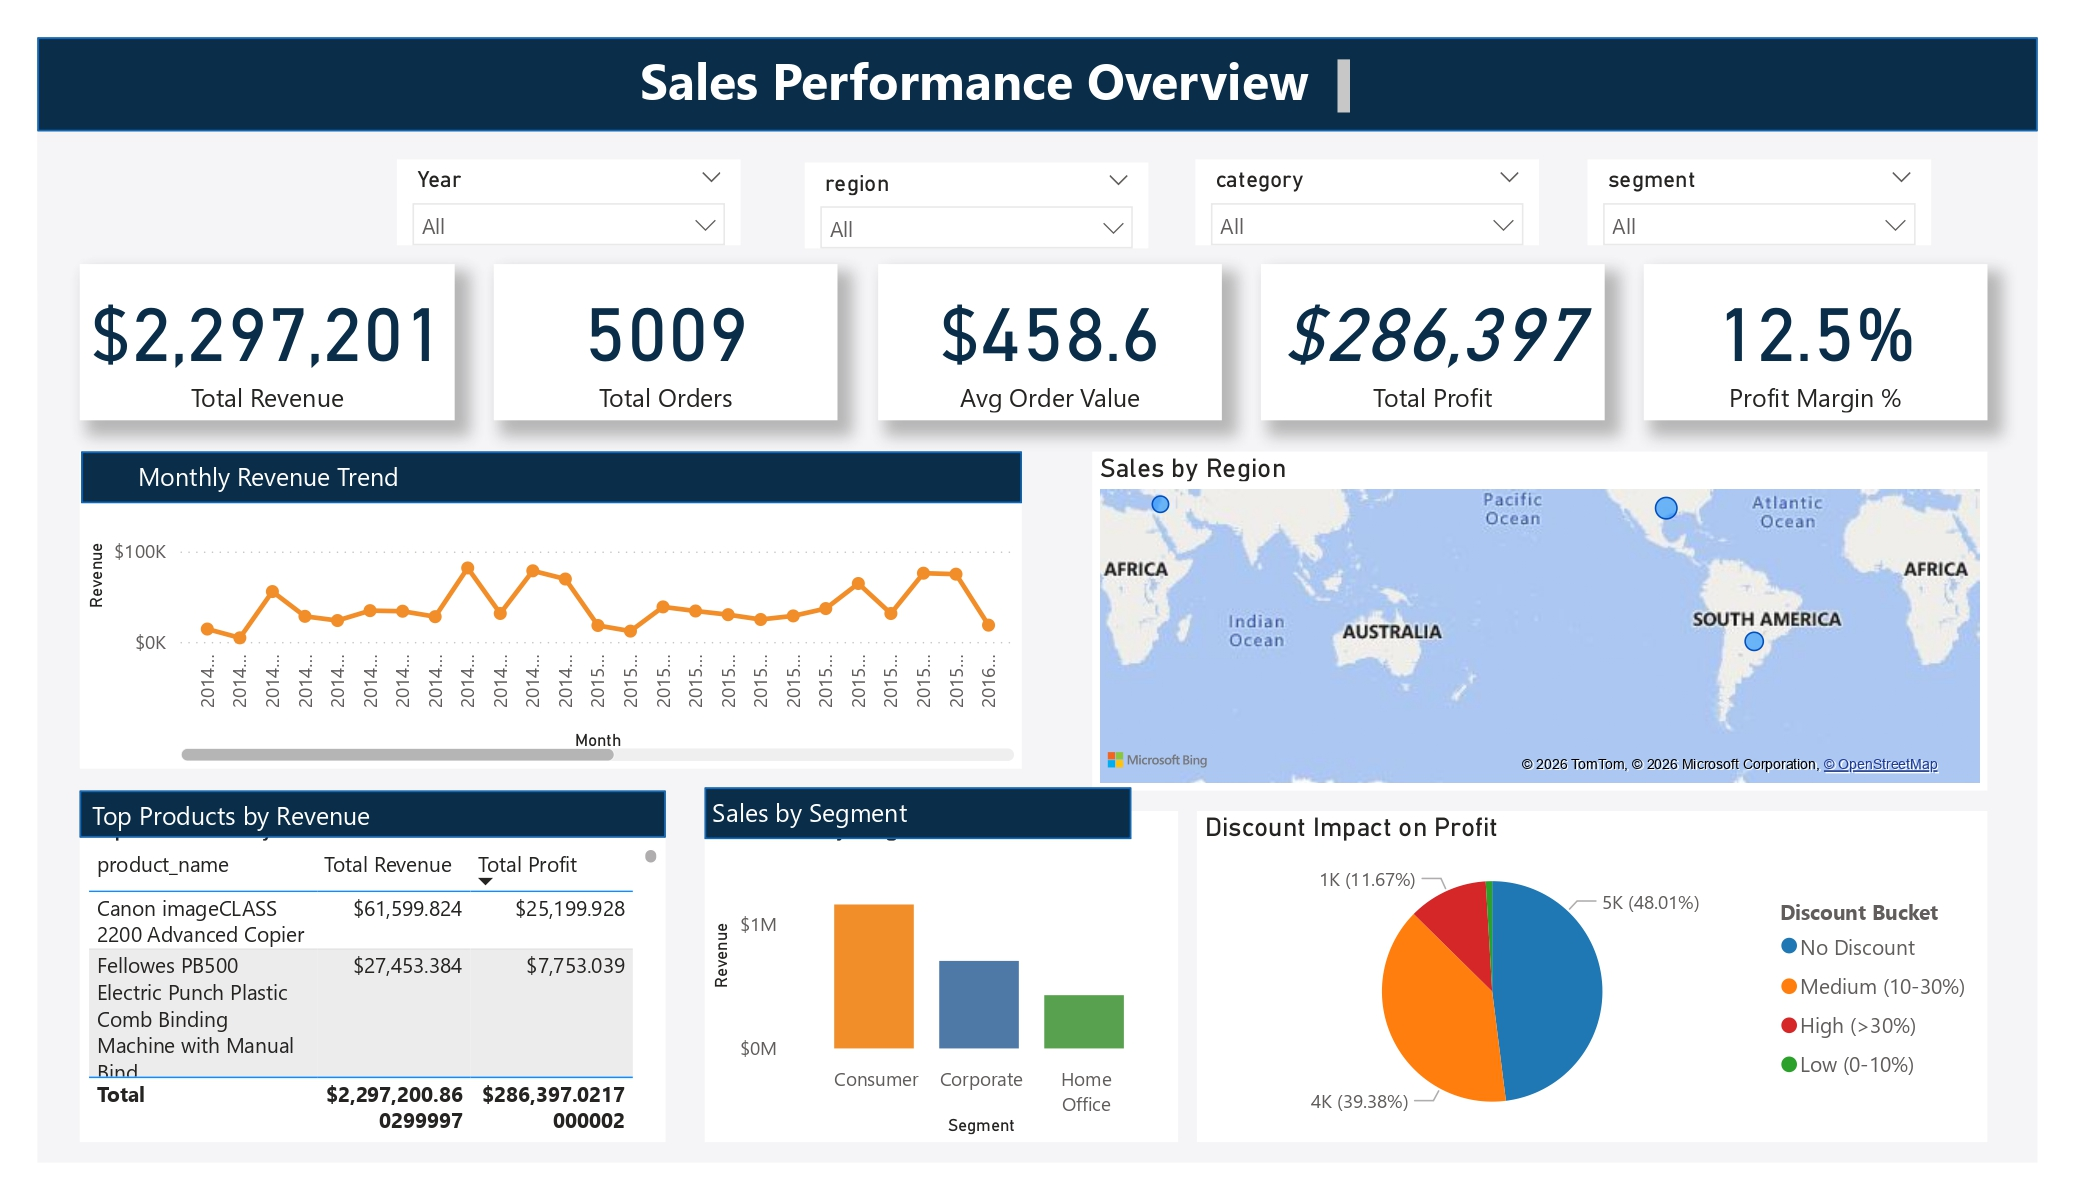

What the dashboard file says about the page in this screenshot:
{"tool":"powerbi","page":{"name":"Page 1","canvas":[1280,720],"ordinal":0},"visuals":[{"type":"card","fields":{"Values":["sales_powerbi.Total Revenue"]},"box":[26.7,145,240,100],"z":0},{"type":"card","fields":{"Values":["sales_powerbi.Total Orders"]},"box":[292.1,145,220,100],"z":1000},{"type":"card","fields":{"Values":["sales_powerbi.Avg Order Value"]},"box":[537.5,145,220,100],"z":2000},{"type":"card","fields":{"Values":["sales_powerbi.Total Profit"]},"box":[782.9,145,220,100],"z":3000},{"type":"lineChart","title":"Monthly Revenue Trend","fields":{"Category":["sales_powerbi.YearMonth"],"Y":["sales_powerbi.Total Revenue"]},"box":[26.7,265,603.3,203.3],"z":4000},{"type":"map","title":"Sales by Region","fields":{"Category":["sales_powerbi.region"],"Size":["sales_powerbi.Total Revenue"]},"box":[675,265,573.3,216.7],"z":4001},{"type":"tableEx","title":"Top Products by Revenue","fields":{"Values":["sales_powerbi.product_name","sales_powerbi.Total Revenue","sales_powerbi.Total Profit"]},"box":[26.7,495,375,211.7],"z":4002},{"type":"clusteredColumnChart","title":"Revenue by Segment","fields":{"Category":["sales_powerbi.segment"],"Y":["sales_powerbi.Total Revenue"]},"box":[426.7,495,303.3,211.7],"z":4003},{"type":"pieChart","title":"Discount Impact on Profit","fields":{"Category":["sales_powerbi.Discount Bucket"],"Y":["sales_powerbi.Order Count"]},"box":[741.7,495,506.7,211.7],"z":4004},{"type":"shape","title":"Sales Performance Overview","box":[0,0,1280,60],"z":4005},{"type":"textbox","box":[361.7,5,483.3,48.3],"z":4006},{"type":"slicer","fields":{"Values":["sales_powerbi.region"]},"box":[490.6,80,220,55],"z":4008},{"type":"slicer","fields":{"Values":["sales_powerbi.category"]},"box":[741.1,78.3,220,55],"z":4009},{"type":"slicer","fields":{"Values":["sales_powerbi.segment"]},"box":[991.7,78.3,220,55],"z":4010},{"type":"slicer","fields":{"Values":["sales_powerbi.Year"]},"box":[230,78.3,220,55],"z":4011},{"type":"card","fields":{"Values":["sales_powerbi.Profit Margin %"]},"box":[1028.3,145,220,100],"z":4012},{"type":"shape","box":[28.3,265,601.7,33.3],"z":4013},{"type":"textbox","box":[0,265,300,33.3],"z":4014},{"type":"shape","box":[26.7,481.7,375,30],"z":4015},{"type":"textbox","box":[30,481.7,238.3,35],"z":4016},{"type":"shape","box":[426.7,480,273.3,33],"z":4017},{"type":"textbox","box":[426.7,480,146.7,33.3],"z":4018}]}

Visuals, with their boxes in screenshot pixels (x1, y1, x2, y2):
card - sales_powerbi.Total Revenue: 79, 264, 454, 420
card - sales_powerbi.Total Orders: 494, 264, 838, 420
card - sales_powerbi.Avg Order Value: 877, 264, 1221, 420
card - sales_powerbi.Total Profit: 1261, 264, 1605, 420
"Monthly Revenue Trend" lineChart: 79, 452, 1022, 769
"Sales by Region" map: 1092, 452, 1988, 790
"Top Products by Revenue" tableEx: 79, 811, 665, 1142
"Revenue by Segment" clusteredColumnChart: 704, 811, 1178, 1142
"Discount Impact on Profit" pieChart: 1196, 811, 1988, 1142
"Sales Performance Overview" shape: 38, 38, 2038, 131
textbox: 603, 45, 1358, 121
slicer - sales_powerbi.region: 804, 162, 1148, 248
slicer - sales_powerbi.category: 1195, 160, 1539, 246
slicer - sales_powerbi.segment: 1587, 160, 1931, 246
slicer - sales_powerbi.Year: 397, 160, 741, 246
card - sales_powerbi.Profit Margin %: 1644, 264, 1988, 420
shape: 82, 452, 1022, 504
textbox: 38, 452, 506, 504
shape: 79, 790, 665, 837
textbox: 84, 790, 457, 845
shape: 704, 788, 1131, 839
textbox: 704, 788, 933, 840
